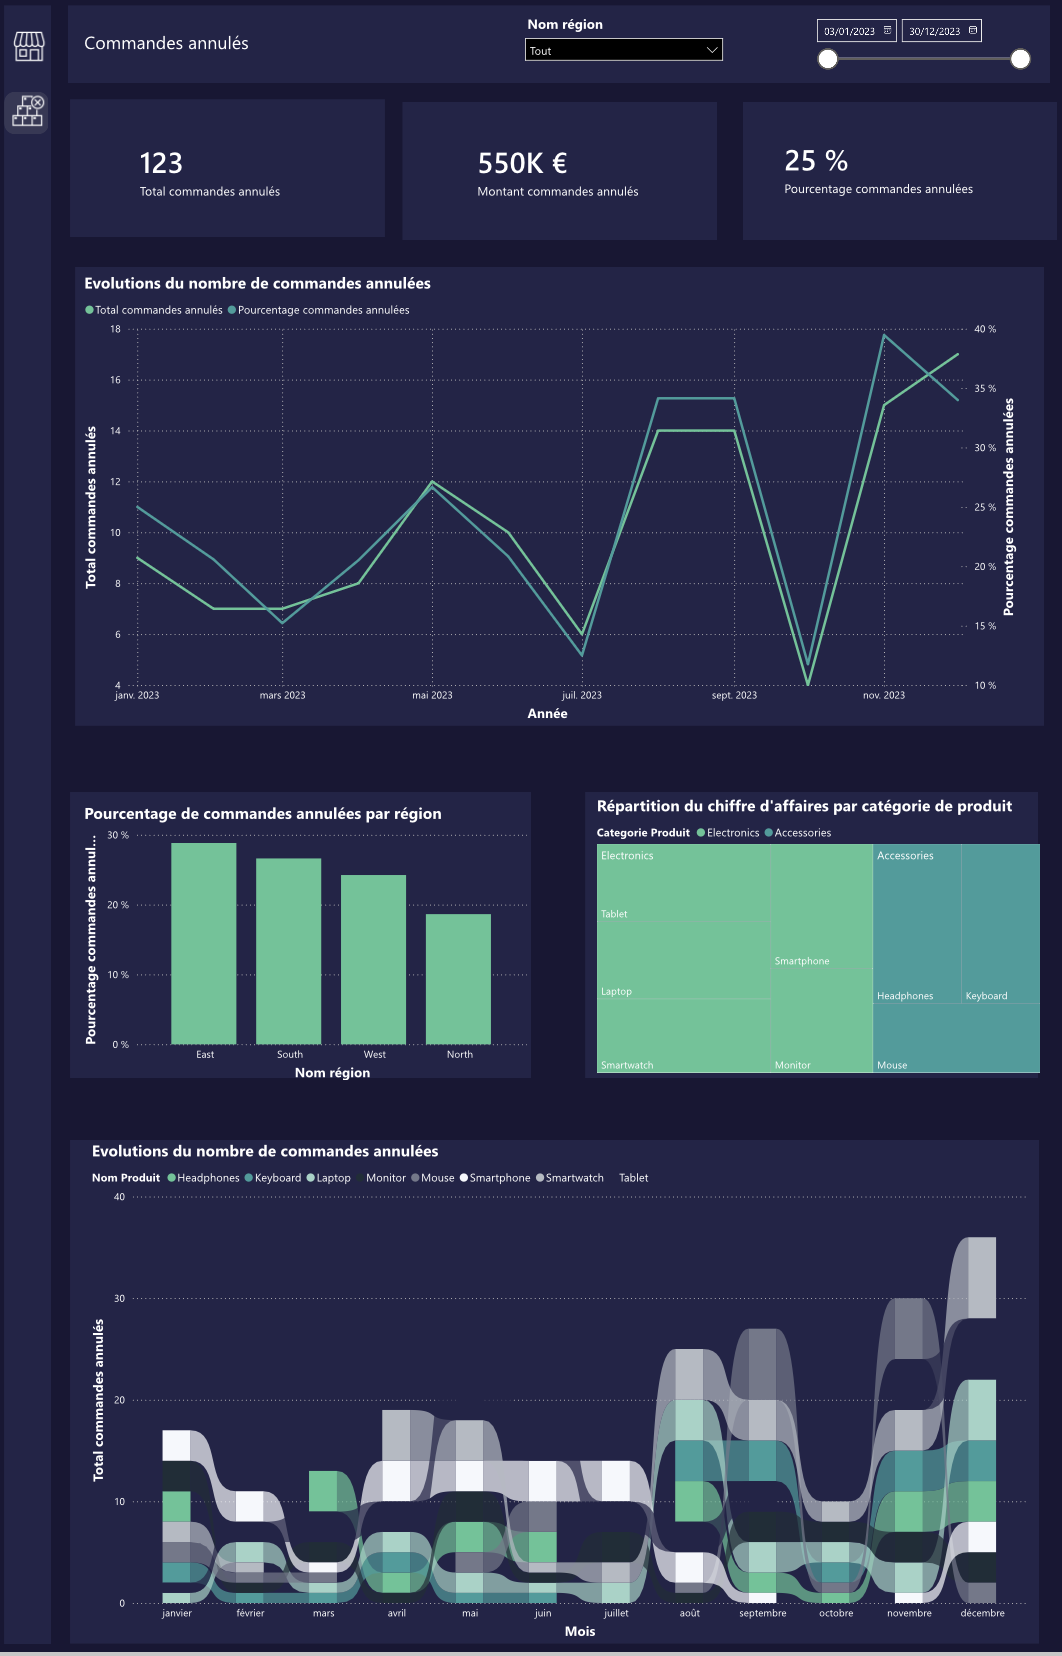

This screenshot's page, from the dashboard's own definition file:
{"tool":"powerbi","page":{"name":"Ventes annulés","canvas":[1280,2000],"ordinal":1},"visuals":[{"type":"shape","box":[12.3,14.9,56.2,1957.3],"z":0},{"type":"shape","box":[87.9,14.9,1173.7,93.1],"z":1000},{"type":"shape","box":[894.3,129.1,376,165.2],"z":2000},{"type":"shape","box":[95.8,327.7,1157.9,548.2],"z":3000},{"type":"shape","box":[90.5,953.2,550.8,341.7],"z":4000},{"type":"shape","box":[707.2,953.2,541.2,341.7],"z":5000},{"type":"shape","box":[90.5,1370.5,1157.9,601.8],"z":6000},{"type":"textbox","box":[103.7,39.5,291.7,40.4],"z":7000},{"type":"lineChart","title":"Evolutions du nombre de commandes annulées","fields":{"Category":["Ventes.Date de la commande.Variation.Hiérarchie de dates.Année","Ventes.Date de la commande.Variation.Hiérarchie de dates.Trimestre","Ventes.Date de la commande.Variation.Hiérarchie de dates.Mois","Ventes.Date de la commande.Variation.Hiérarchie de dates.Jour"],"Y":["Mesures.Total commandes annulés"],"Y2":["Mesures.Pourcentage commandes annulées"]},"box":[103.7,333.8,1126.3,542],"z":8000},{"type":"clusteredColumnChart","title":"Pourcentage de commandes annulées par région","fields":{"Category":["Régions.Nom région"],"Y":["Mesures.Pourcentage commandes annulées"]},"box":[103.7,965.5,539.4,337.4],"z":9000},{"type":"treemap","title":"Répartition du chiffre d''affaires par catégorie de produit","fields":{"Group":["Produits.Categorie Produit"],"Values":["Mesures.Total ventes"],"Details":["Produits.Nom Produit"]},"box":[714.2,957.6,539.4,337.4],"z":10000},{"type":"slicer","fields":{"Values":["Régions.Nom région"]},"box":[625.5,21.1,256.5,77.3],"z":11000},{"type":"slicer","fields":{"Values":["Ventes.Date de la commande"]},"box":[970.8,21.1,277.6,77.3],"z":12000},{"type":"shape","box":[486.7,130,376,165.2],"z":13000},{"type":"shape","box":[90.5,128.3,376,165.2],"z":14000},{"type":"cardVisual","fields":{"Data":["Mesures.Total commandes annulés"]},"box":[145.8,129.1,236.3,164.3],"z":15000},{"type":"cardVisual","fields":{"Data":["Mesures.Montant commandes annulés"]},"box":[550,129.1,299.6,164.3],"z":16000},{"type":"cardVisual","fields":{"Data":["Mesures.Pourcentage commandes annulées"]},"box":[915.4,128.3,284.6,164.3],"z":17000},{"type":"ribbonChart","title":"Evolutions du nombre de commandes annulées","fields":{"Category":["Ventes.Date de la commande.Variation.Hiérarchie de dates.Année","Ventes.Date de la commande.Variation.Hiérarchie de dates.Trimestre","Ventes.Date de la commande.Variation.Hiérarchie de dates.Mois","Ventes.Date de la commande.Variation.Hiérarchie de dates.Jour"],"Y":["Mesures.Total commandes annulés"],"Series":["Produits.Nom Produit"]},"box":[111.6,1370.5,1126.3,601.8],"z":18000},{"type":"shape","box":[13.2,116.8,53.6,51],"z":21000},{"type":"image","box":[16.7,113.3,45.7,58],"z":21250},{"type":"image","box":[16.7,39.5,48.3,49.2],"z":21500}]}

Visuals, with their boxes on the page's 1280x2000 design canvas (x1, y1, x2, y2). These are canvas units, not pixel positions in the 1062x1656 screenshot, which may show the page scaled, cropped or inside an application window:
shape: (12, 15, 68, 1972)
shape: (88, 15, 1262, 108)
shape: (894, 129, 1270, 294)
shape: (96, 328, 1254, 876)
shape: (90, 953, 641, 1295)
shape: (707, 953, 1248, 1295)
shape: (90, 1370, 1248, 1972)
textbox: (104, 40, 395, 80)
"Evolutions du nombre de commandes annulées" lineChart: (104, 334, 1230, 876)
"Pourcentage de commandes annulées par région" clusteredColumnChart: (104, 966, 643, 1303)
"Répartition du chiffre d''affaires par catégorie de produit" treemap: (714, 958, 1254, 1295)
slicer - Régions.Nom région: (626, 21, 882, 98)
slicer - Ventes.Date de la commande: (971, 21, 1248, 98)
shape: (487, 130, 863, 295)
shape: (90, 128, 466, 294)
cardVisual - Mesures.Total commandes annulés: (146, 129, 382, 293)
cardVisual - Mesures.Montant commandes annulés: (550, 129, 850, 293)
cardVisual - Mesures.Pourcentage commandes annulées: (915, 128, 1200, 293)
"Evolutions du nombre de commandes annulées" ribbonChart: (112, 1370, 1238, 1972)
shape: (13, 117, 67, 168)
image: (17, 113, 62, 171)
image: (17, 40, 65, 89)
